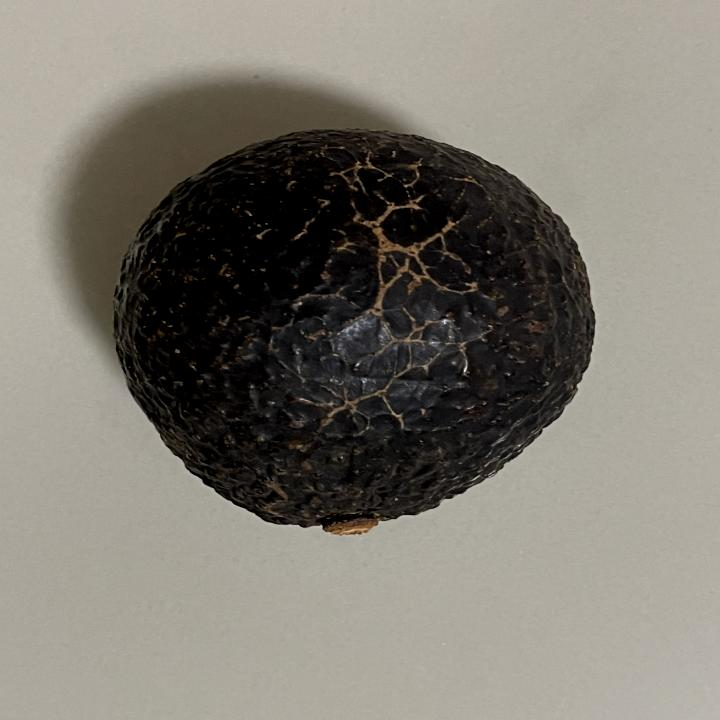Level2: (104, 122, 602, 546)
